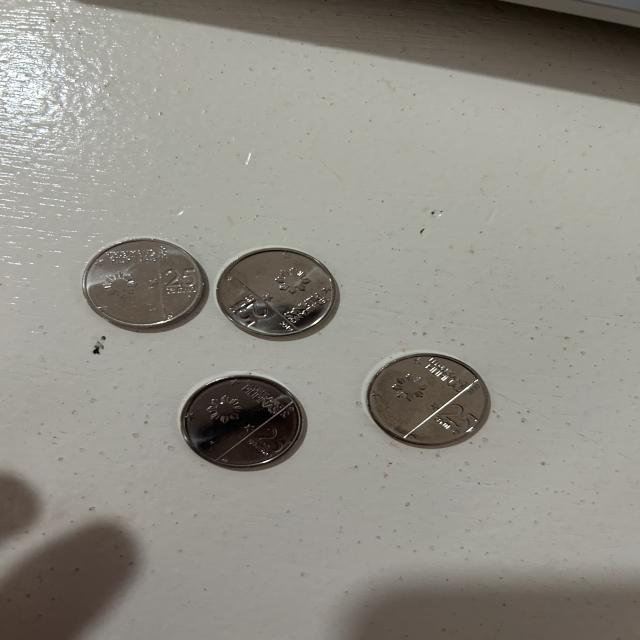25Cent_New_Front: (241, 425, 290, 465), (222, 292, 272, 328), (154, 264, 199, 297), (435, 400, 474, 437)
